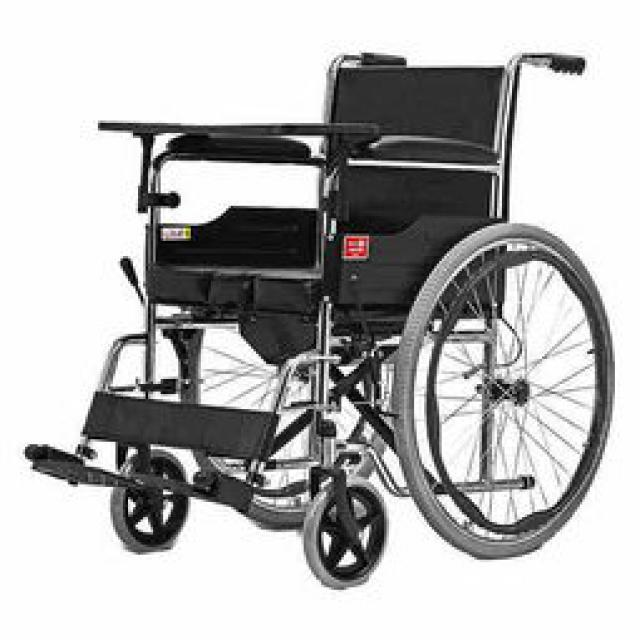wheelchair: (30, 32, 613, 584)
